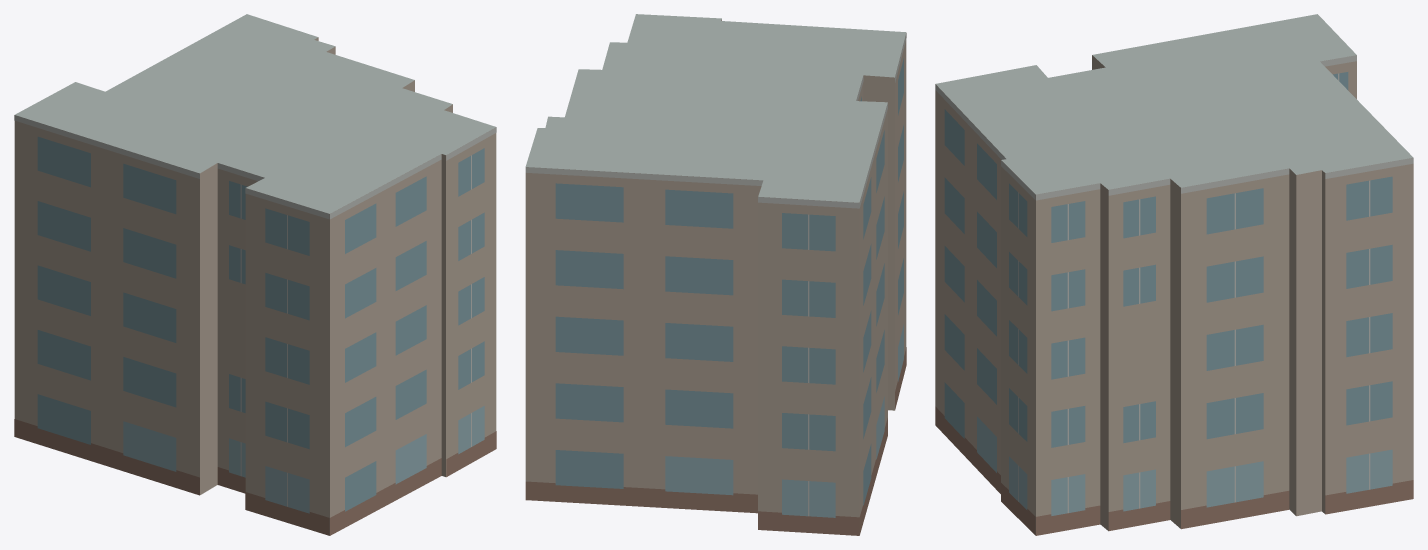
File: survey-upis-32627449.glb
3 renders of one model, left to right at view 1: azimuth 30°, elevation 25°; view 2: azimuth 150°, elevation 25°; view 3: azimuth 270°, elevation 25°, orthographic. The views are drawn at different scales.
Visible parts, largest first — view 1: survey-upis-32627449.tmp; view 2: survey-upis-32627449.tmp; view 3: survey-upis-32627449.tmp.
Part boxes in pixels (box(x1,y1,x2,y2)): survey-upis-32627449.tmp: box(14, 14, 496, 535); survey-upis-32627449.tmp: box(525, 14, 906, 535); survey-upis-32627449.tmp: box(935, 14, 1413, 535).
Bounding box in the file's own units: 15.84 × 13.95 × 17.72.
